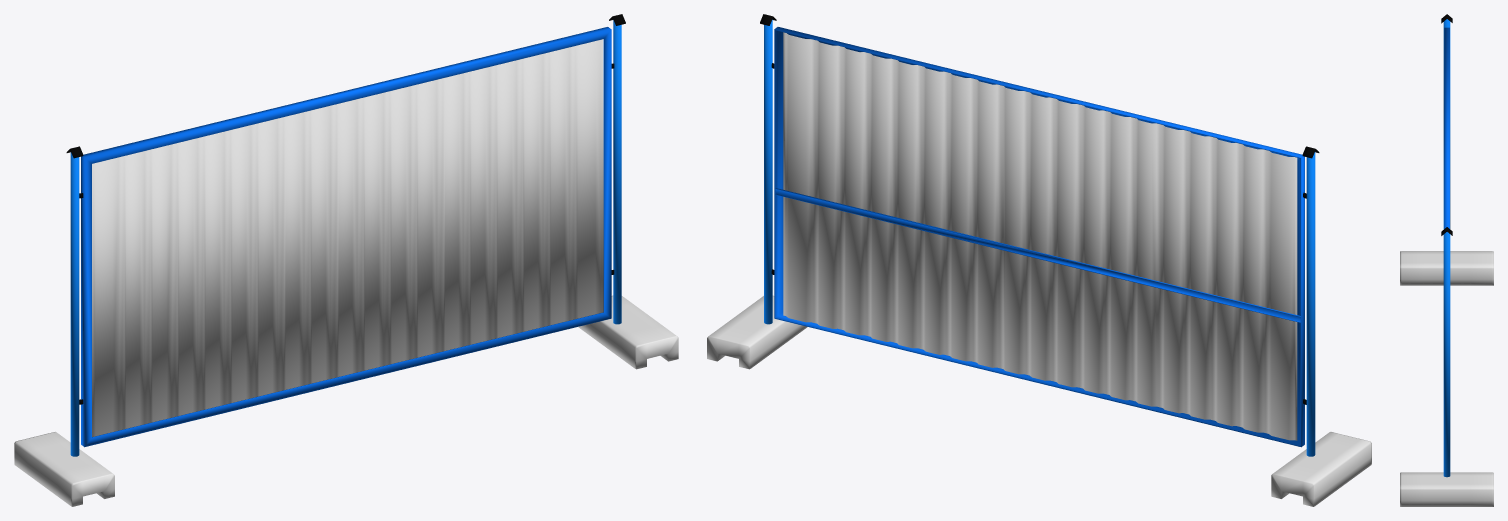
The picture shows the model from 3 angles, left to right: view 1: azimuth 30°, elevation 25°; view 2: azimuth 150°, elevation 25°; view 3: azimuth 270°, elevation 25°; orthographic projection. The views are drawn at different scales.
Visible parts, largest first — view 1: AM115_042_01_00, AM115_042_01_19, AM115_042_01_03, AM115_042_01_02; view 2: AM115_042_01_00, AM115_042_01_19, AM115_042_01_03, AM115_042_01_02; view 3: AM115_042_01_03, AM115_042_01_02, AM115_042_01_19.
Part boxes in pixels (x1,y1,x2,y2): AM115_042_01_00: [92, 39, 603, 436]; AM115_042_01_19: [81, 27, 611, 447]; AM115_042_01_03: [14, 295, 678, 506]; AM115_042_01_02: [70, 20, 621, 456]; AM115_042_01_00: [783, 32, 1297, 440]; AM115_042_01_19: [774, 27, 1304, 447]; AM115_042_01_03: [707, 295, 1371, 506]; AM115_042_01_02: [764, 19, 1315, 456]; AM115_042_01_03: [1400, 251, 1493, 506]; AM115_042_01_02: [1443, 19, 1450, 477]; AM115_042_01_19: [1444, 27, 1449, 228].
Size of the model in its own units: 154 by 25.69 by 80.18.
